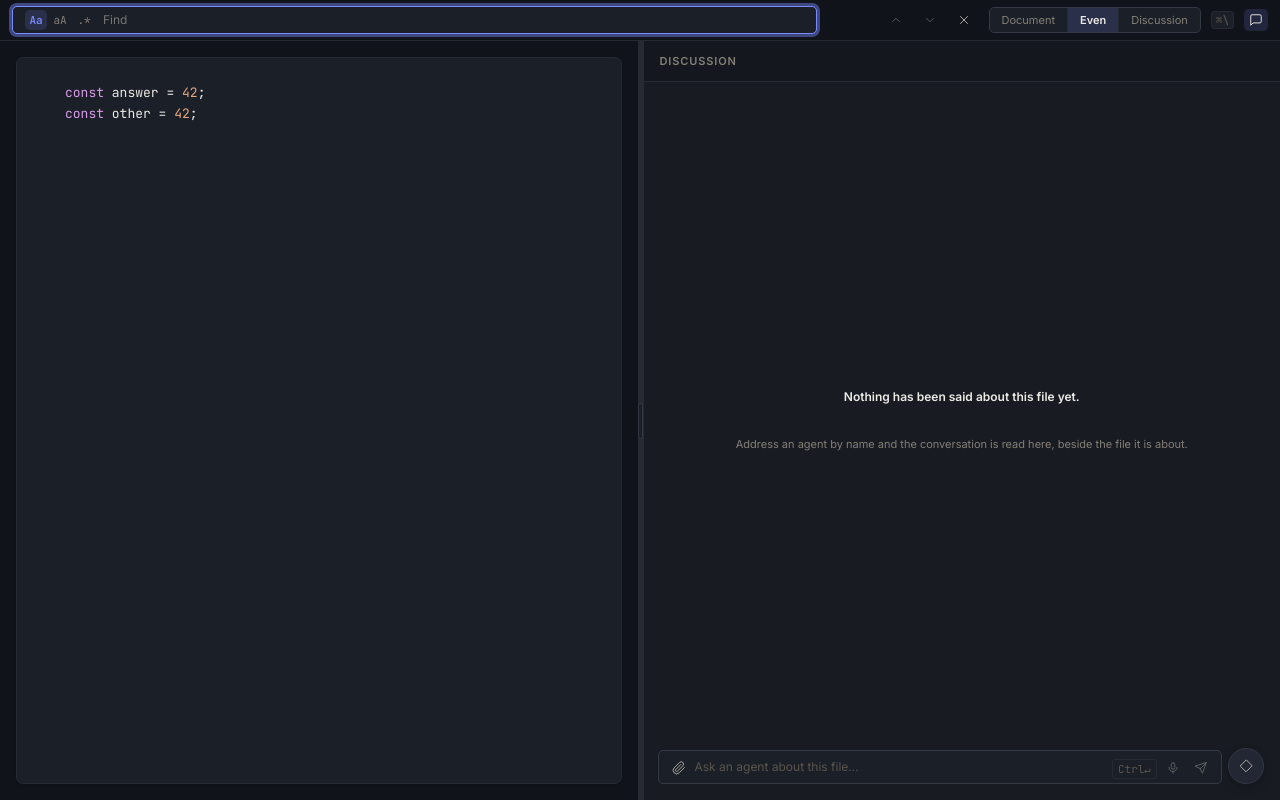
Test: ESH-FR-BPLJ: editing a highlighted file › marks a find match inside a coloured token without losing the token
Expected: the text box named "Source" is shown, [17,58,620,783]
Expected: the text "const" is shown, [65,84,104,101]
Type "42" into the field with placeholder "Find" at (453, 20), box [103,11,804,29]
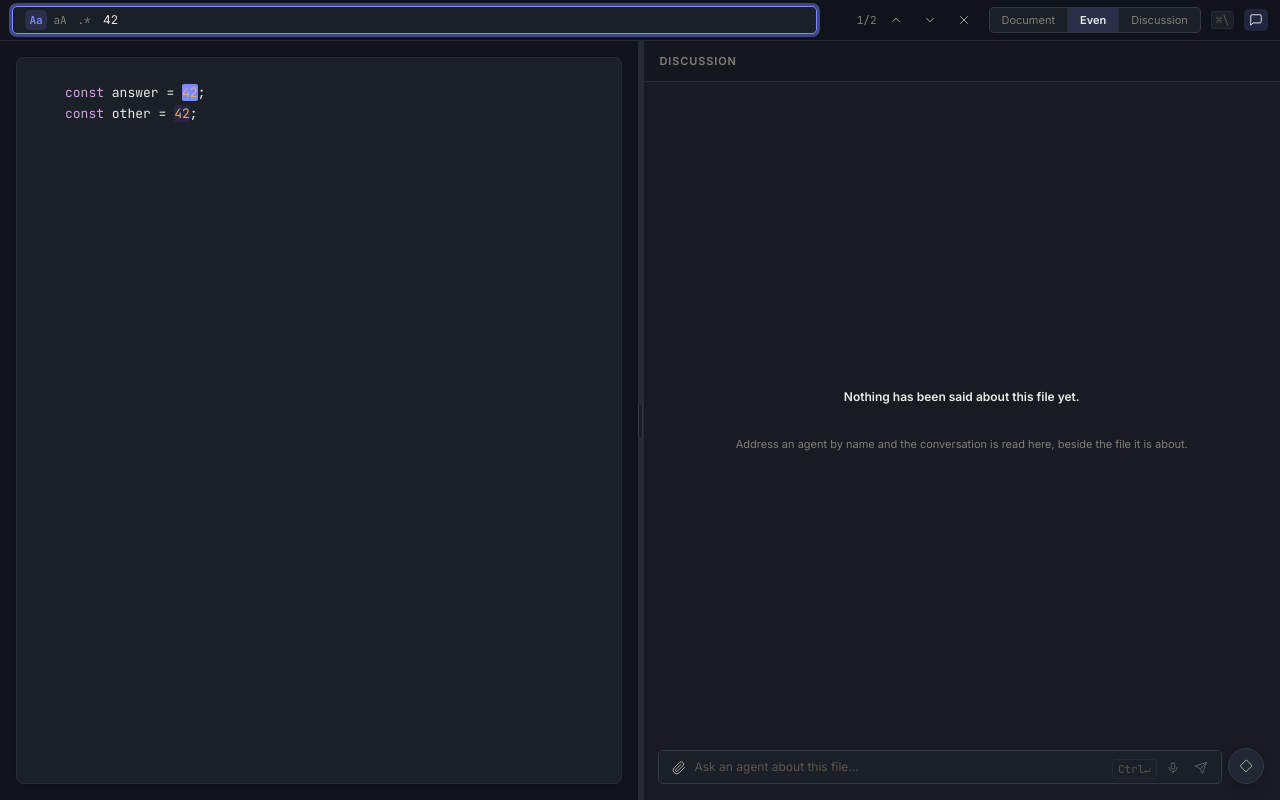
Expected: the element with class "find-match" showing "42" is shown, [182,84,198,101]
Expected: the number of elements with class "find-match" is 2, [182,84,198,101]; [174,105,190,122]
